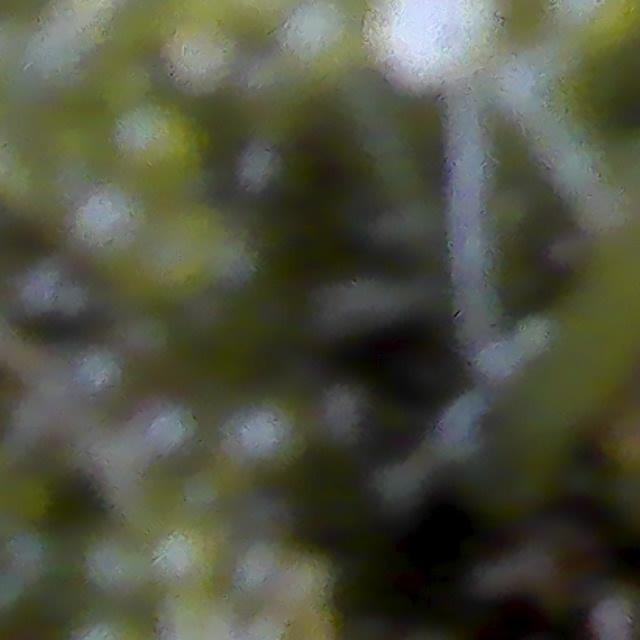SeaGrape: (115, 98, 202, 180), (391, 0, 491, 71), (284, 0, 370, 81), (224, 394, 305, 473), (167, 19, 238, 93), (75, 186, 143, 251)
